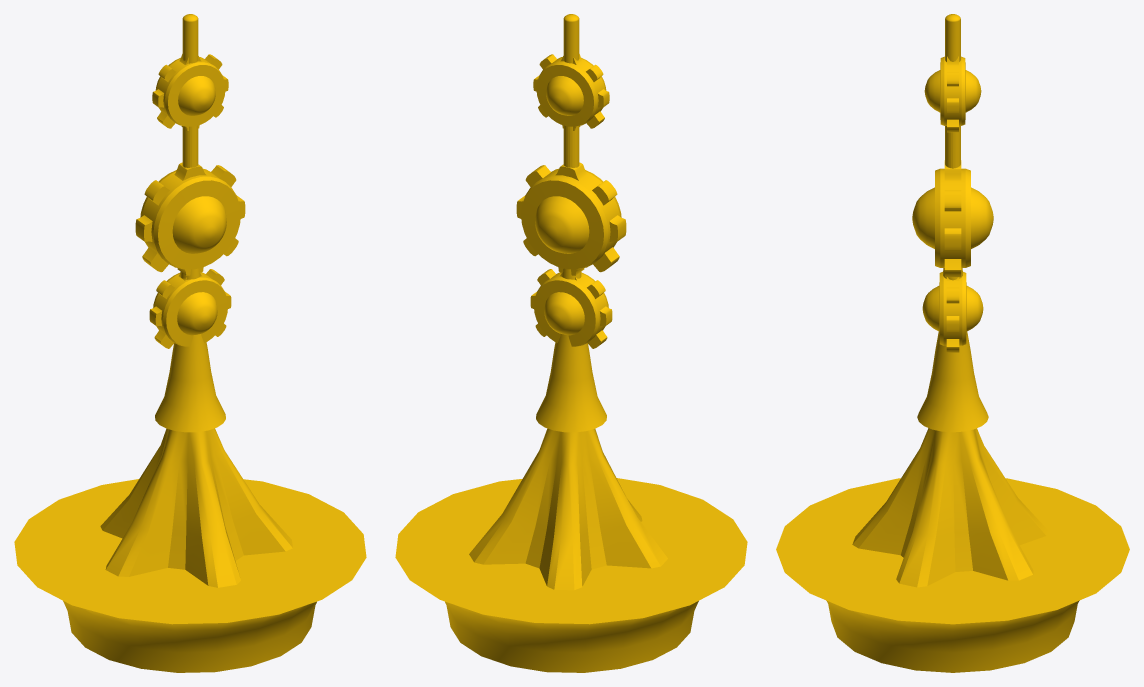
Rendered from Fancy Spire.obj.
3 renders of one model, left to right at view 1: azimuth 30°, elevation 25°; view 2: azimuth 150°, elevation 25°; view 3: azimuth 270°, elevation 25°, orthographic.
Visible parts, largest first — view 1: Fancy_Spire_low low; view 2: Fancy_Spire_low low; view 3: Fancy_Spire_low low.
Boxes of the visible parts, x1,y1,x2,y2 form: Fancy_Spire_low low: [14, 14, 366, 672]; Fancy_Spire_low low: [395, 14, 747, 672]; Fancy_Spire_low low: [776, 14, 1129, 672].
Size of the model in its own units: 1.22 by 2.31 by 1.22.
